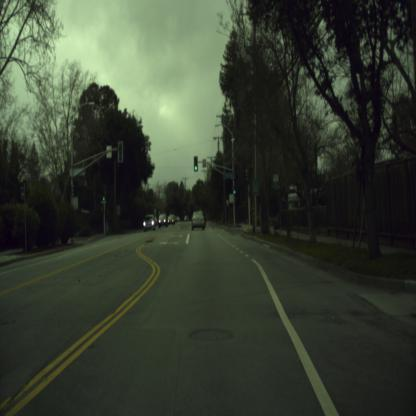Green: (193, 155, 198, 171), (102, 191, 105, 202), (233, 189, 236, 200)
